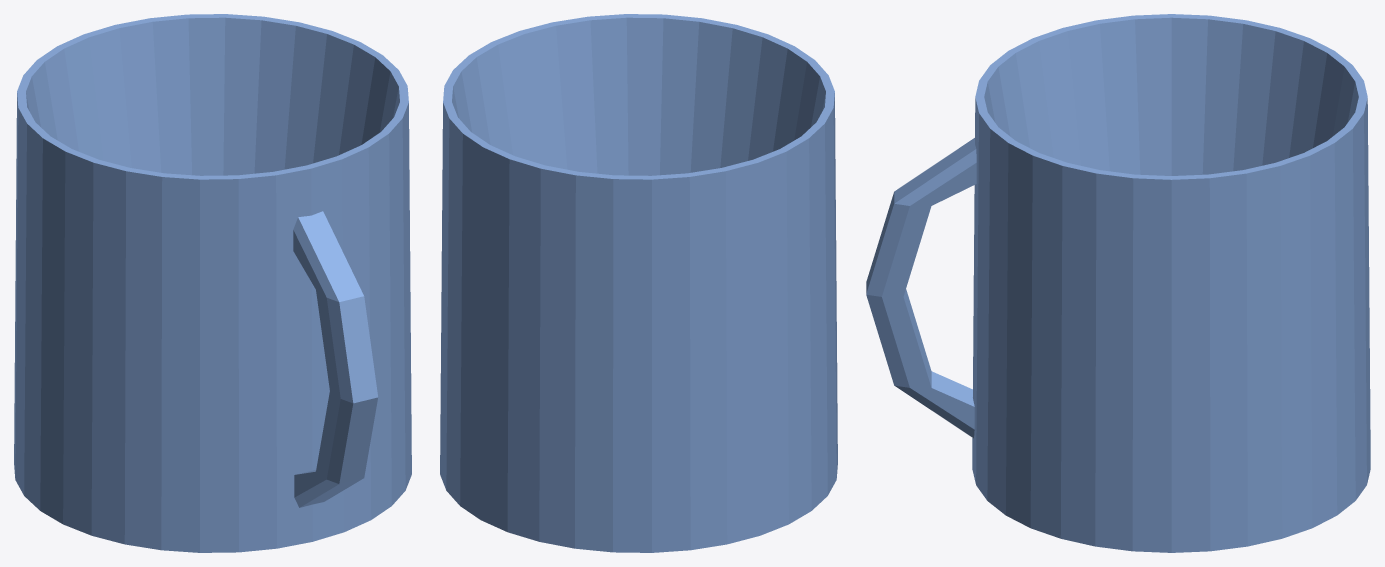
Rendered from mug.fbx.
The picture shows the model from 3 angles, left to right: view 1: azimuth 30°, elevation 25°; view 2: azimuth 150°, elevation 25°; view 3: azimuth 270°, elevation 25°; orthographic projection.
Parts seen in each view (by area): view 1: mug, handle; view 2: mug; view 3: mug, handle.
Boxes of the visible parts, <box> form: mug: <box>14,14,411,552</box>; handle: <box>293,211,378,507</box>; mug: <box>440,14,837,552</box>; mug: <box>972,14,1370,552</box>; handle: <box>866,138,976,438</box>.
Size of the model in its own units: 74.74 by 76.93 by 94.63.
